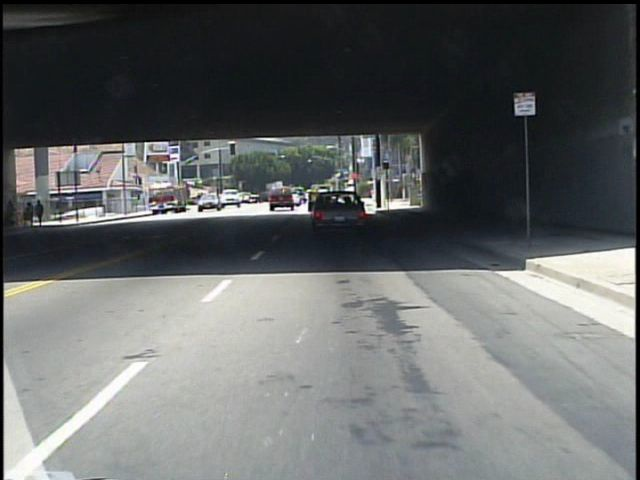person: (23, 201, 36, 230), (36, 200, 48, 230)
